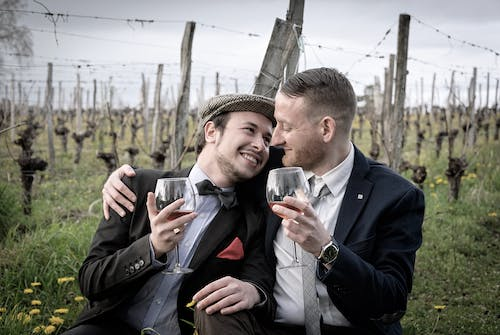alcohol: (265, 166, 311, 270), (152, 177, 197, 275)
